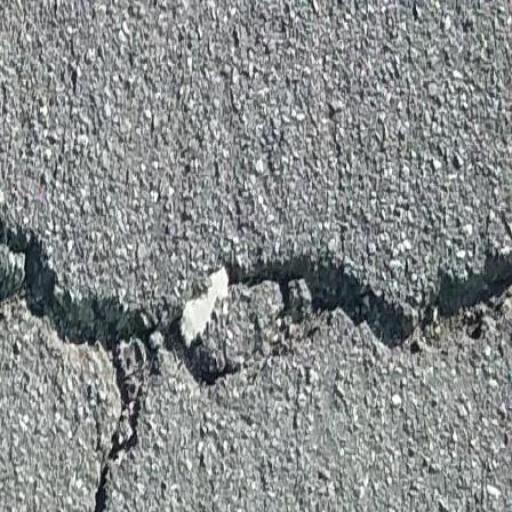spalling: (0, 206, 512, 512)
